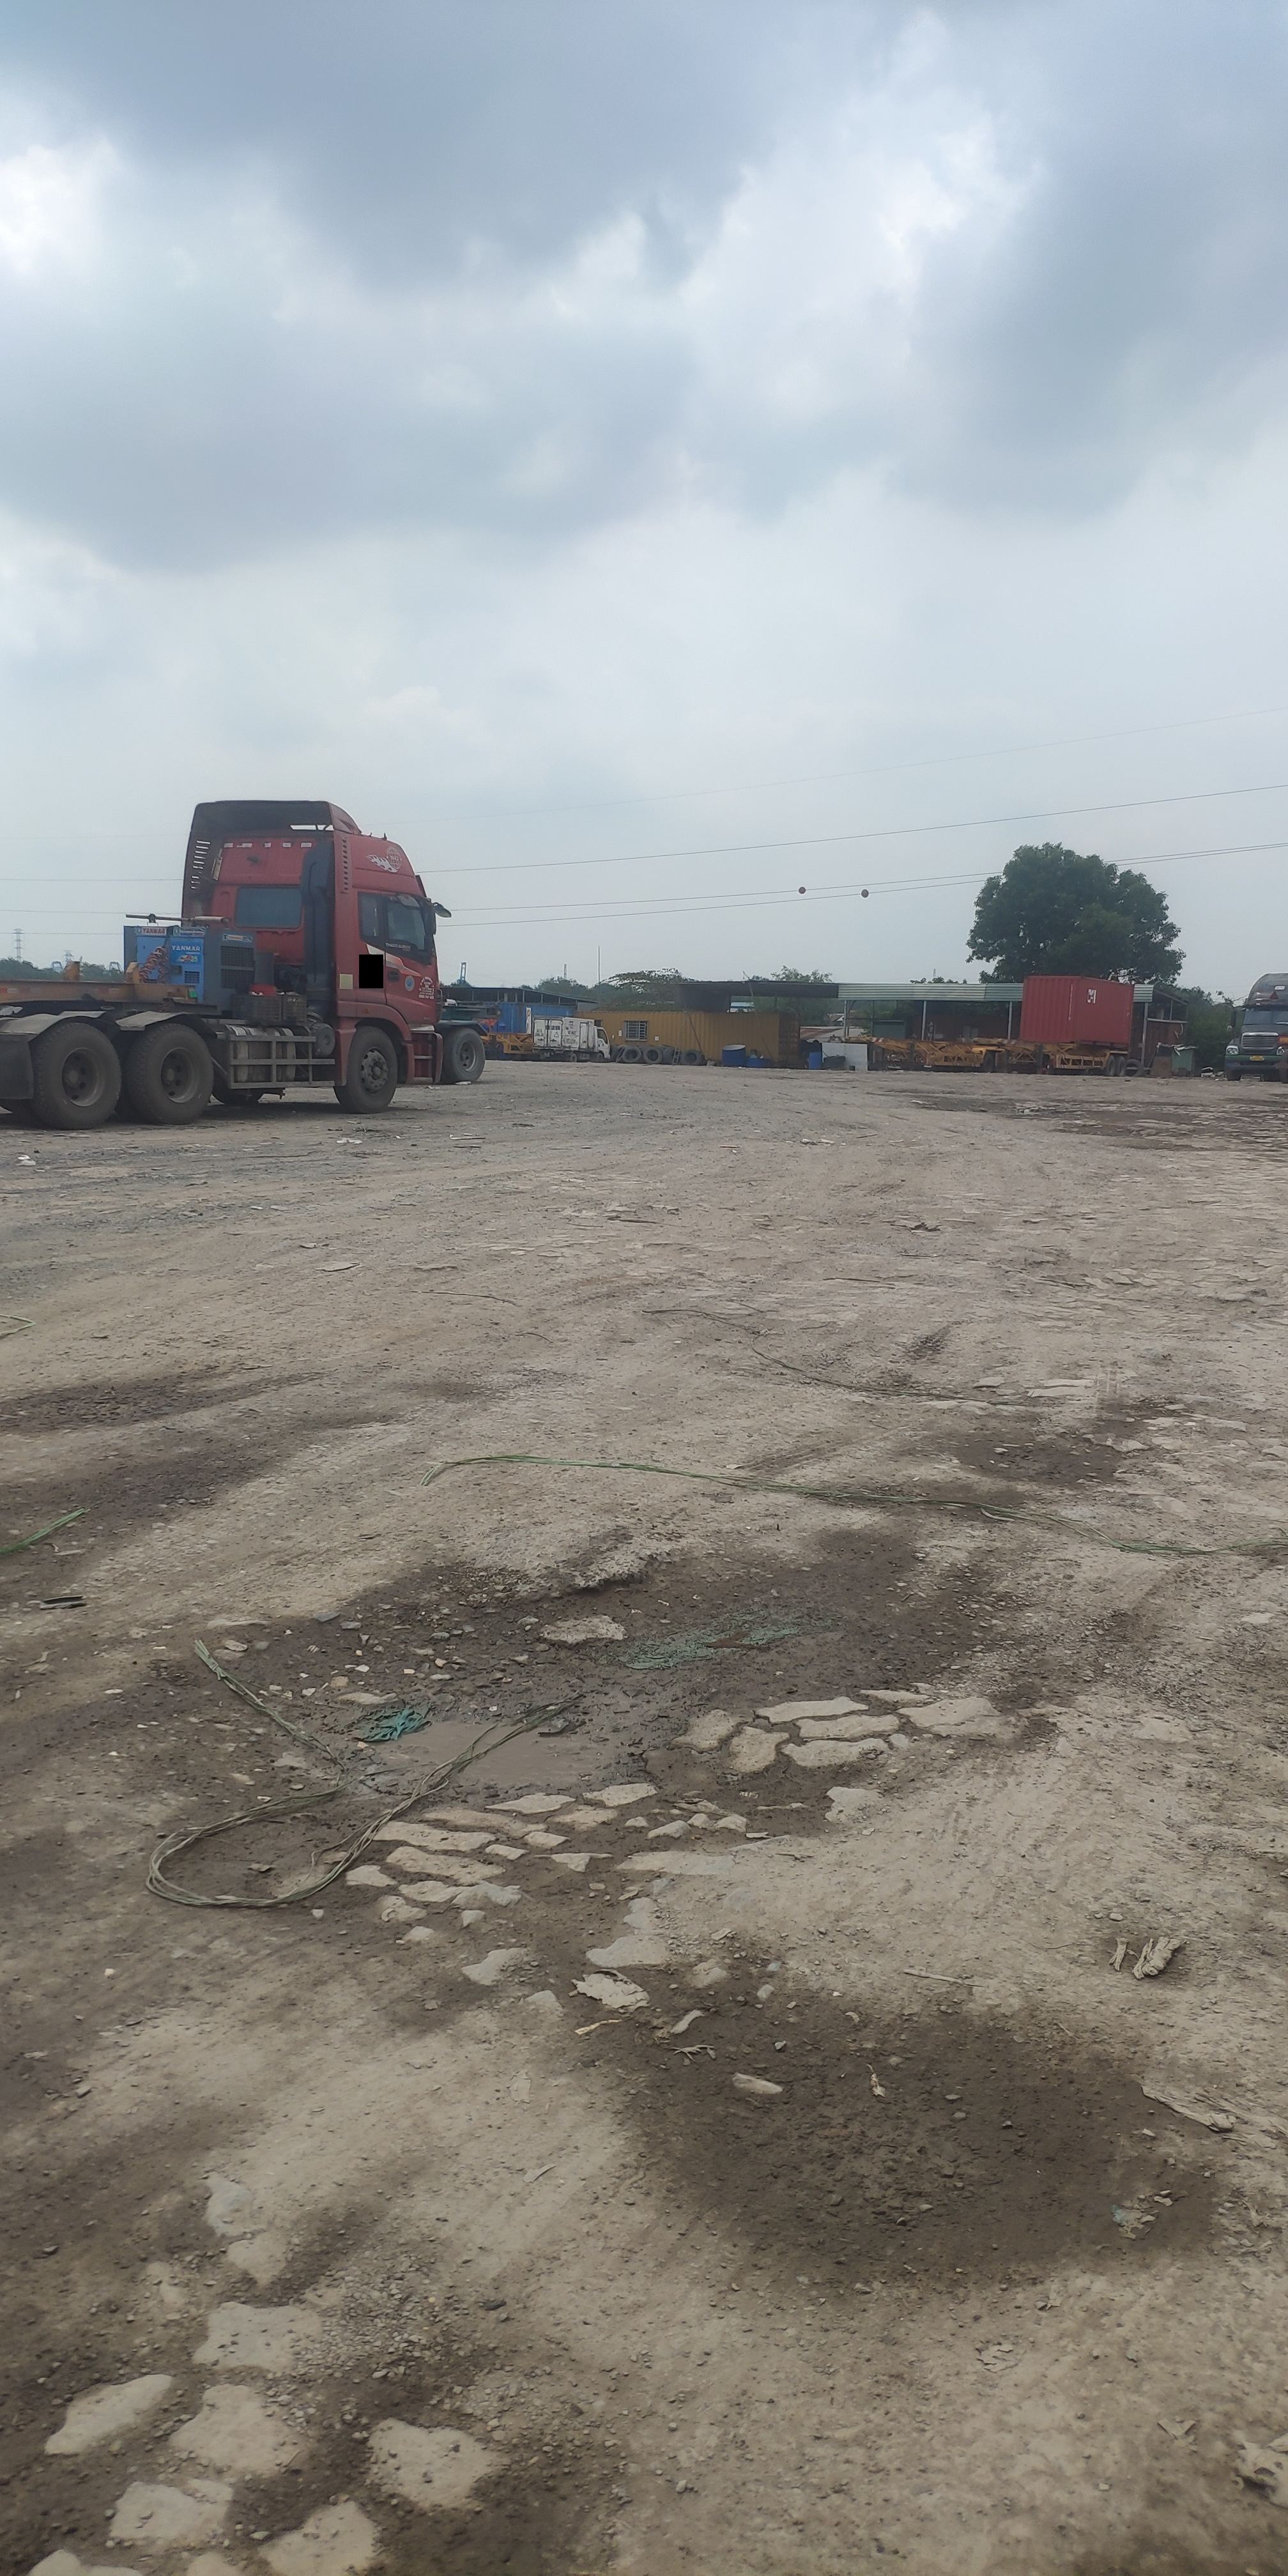hole: (596, 1962, 1214, 2303), (261, 1552, 784, 1819), (913, 1405, 1115, 1495), (0, 1368, 207, 1434), (989, 1240, 1152, 1303), (1040, 1102, 1203, 1124), (908, 1092, 1035, 1119), (1099, 1135, 1224, 1155), (867, 1086, 971, 1099)
